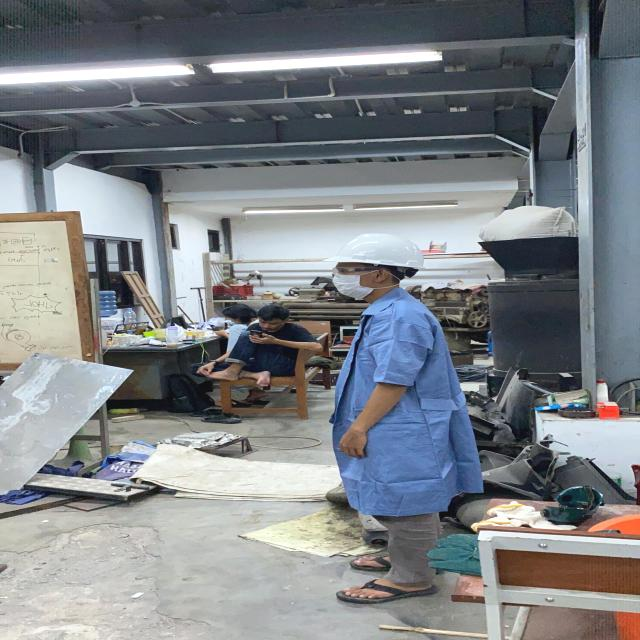glasses: (330, 265, 393, 278)
